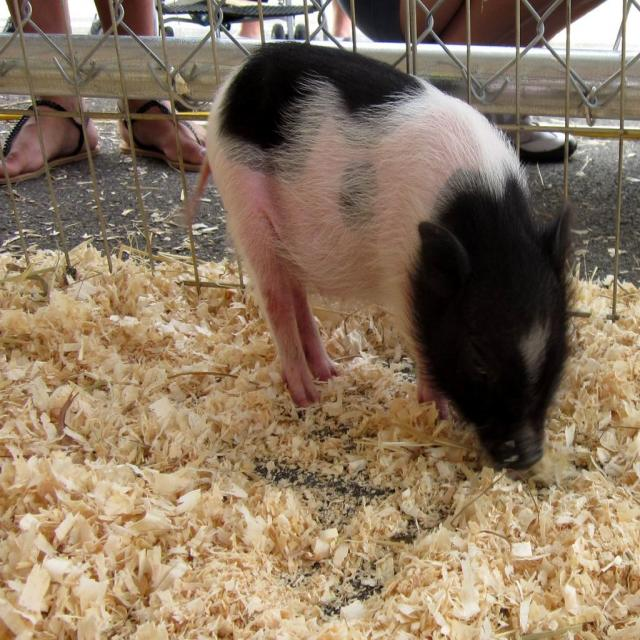Pig: (204, 40, 580, 472)
